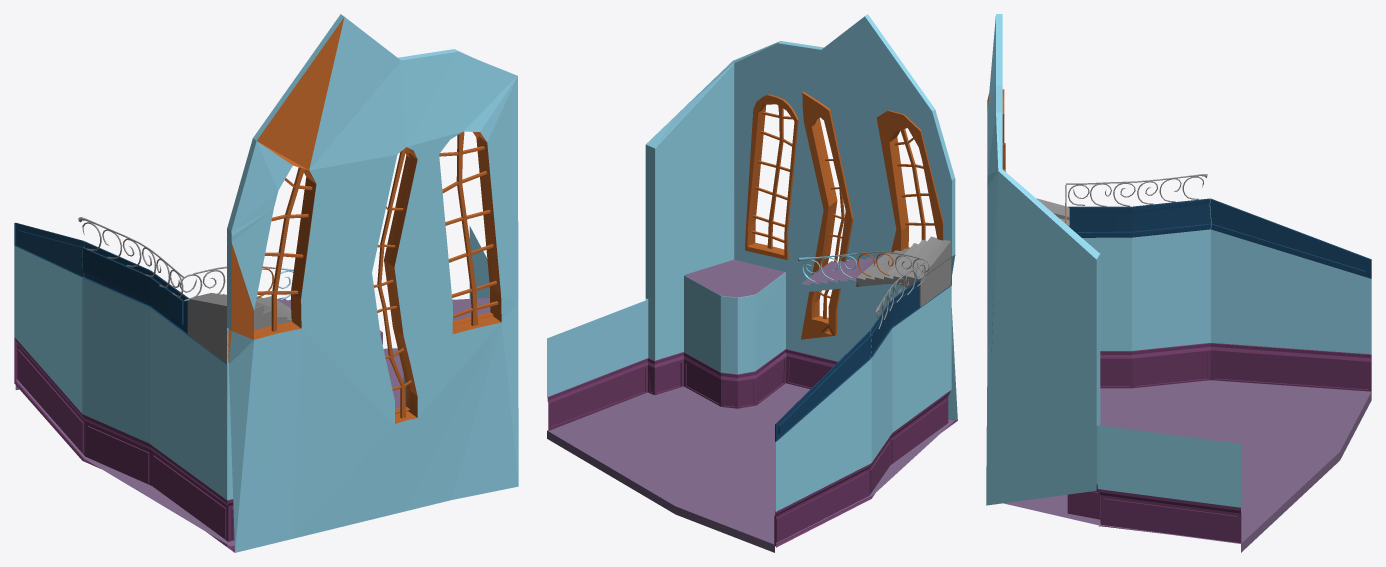
Rendered from Room_Sword_1.fbx.
3 views of the same model, side by side, from view 1: azimuth 30°, elevation 25°; view 2: azimuth 150°, elevation 25°; view 3: azimuth 270°, elevation 25° (orthographic). The views are drawn at different scales.
Parts seen in each view (by area): view 1: Sala_Espada, Escenograf; view 2: Sala_Espada, Escenograf, Escalera_inv; view 3: Sala_Espada, Escenograf.
Boxes of the visible parts, x1,y1,x2,y2 form: Sala_Espada: (14,14,518,552); Escenograf: (78,217,291,363); Sala_Espada: (547,14,957,552); Escenograf: (856,236,951,328); Escalera_inv: (801,256,881,292); Sala_Espada: (986,14,1371,552); Escenograf: (1036,174,1207,226).
Size of the model in its own units: 1796 by 2137 by 1744.
